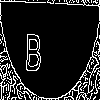B: (25, 24, 43, 72)
